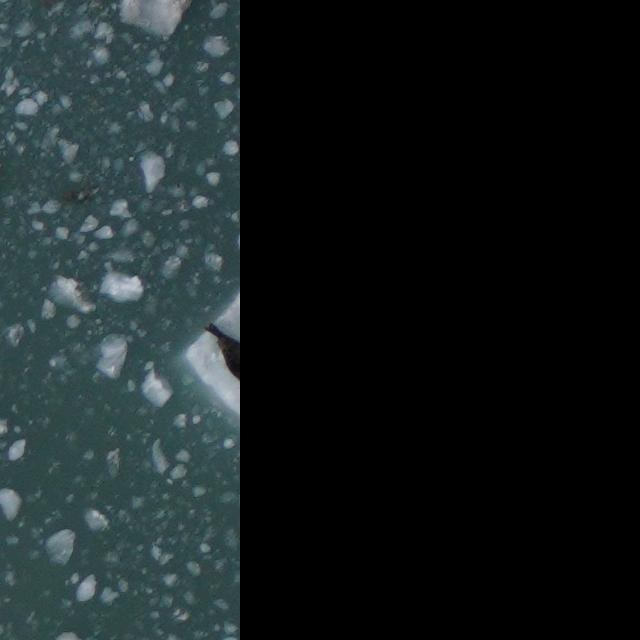seal: (199, 319, 240, 388)
